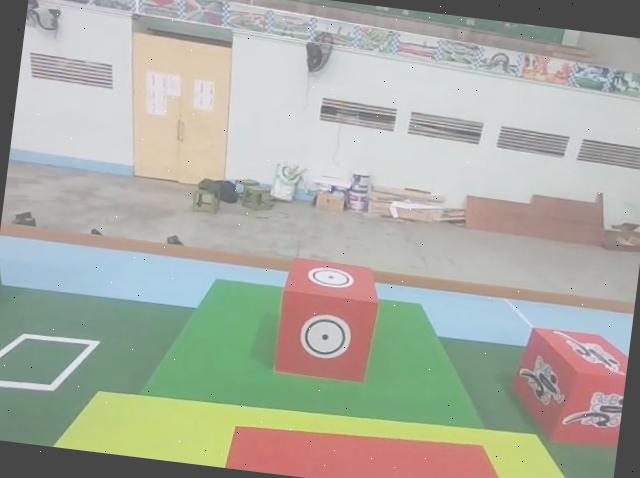R1: (502, 320, 631, 453)
R2 Real: (269, 252, 383, 385)
